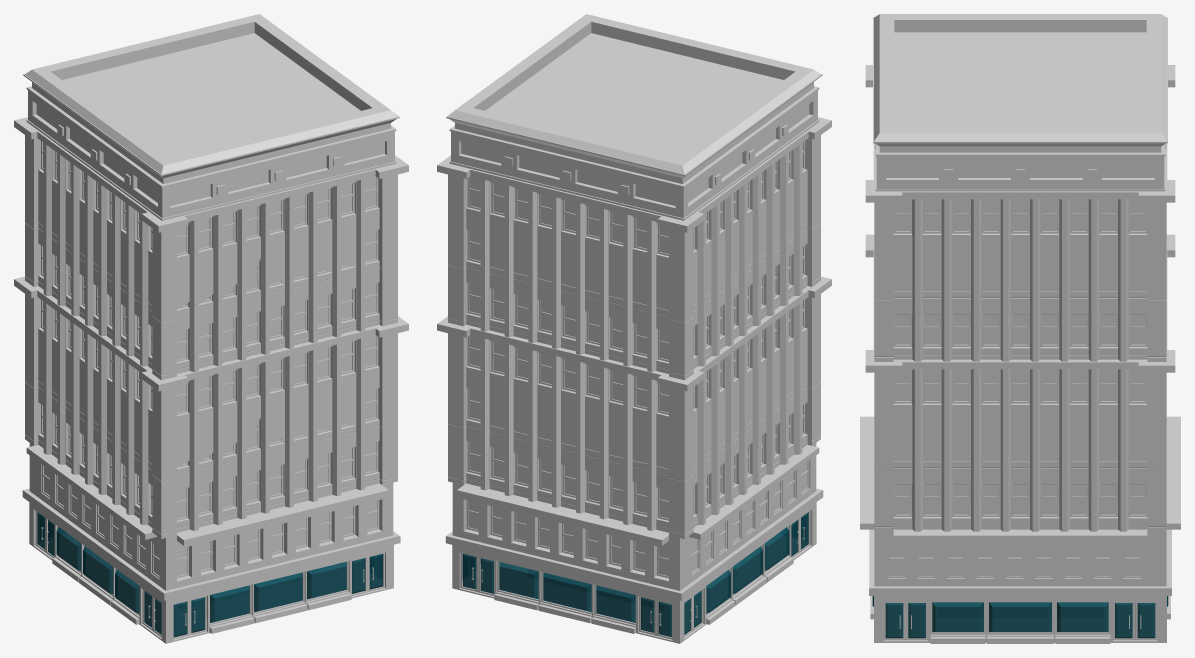
File: building_office_four_sided_01_medium.fbx
The picture shows the model from 3 angles, left to right: view 1: azimuth 30°, elevation 25°; view 2: azimuth 150°, elevation 25°; view 3: azimuth 270°, elevation 25°; orthographic projection. The views are drawn at different scales.
Visible parts, largest first — view 1: building_office_four_sided_01_medium, building_office_four_sided_01_medium_glass; view 2: building_office_four_sided_01_medium, building_office_four_sided_01_medium_glass; view 3: building_office_four_sided_01_medium, building_office_four_sided_01_medium_glass.
Part boxes in pixels (box(x1,y1,x2,y2)): building_office_four_sided_01_medium: box(14, 14, 408, 643); building_office_four_sided_01_medium_glass: box(37, 512, 382, 637); building_office_four_sided_01_medium: box(437, 14, 831, 643); building_office_four_sided_01_medium_glass: box(462, 512, 808, 637); building_office_four_sided_01_medium: box(860, 14, 1180, 643); building_office_four_sided_01_medium_glass: box(872, 596, 1168, 638).
Size of the model in its own units: 1985 by 3600 by 2054.
